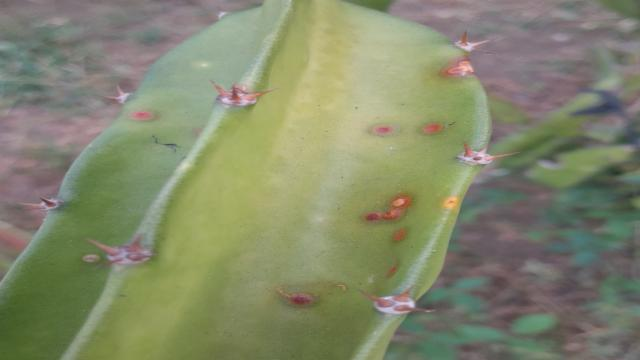stemcanker: (363, 192, 415, 241), (432, 52, 485, 83), (263, 283, 322, 310), (124, 107, 164, 126), (364, 122, 401, 139), (418, 121, 446, 136)
